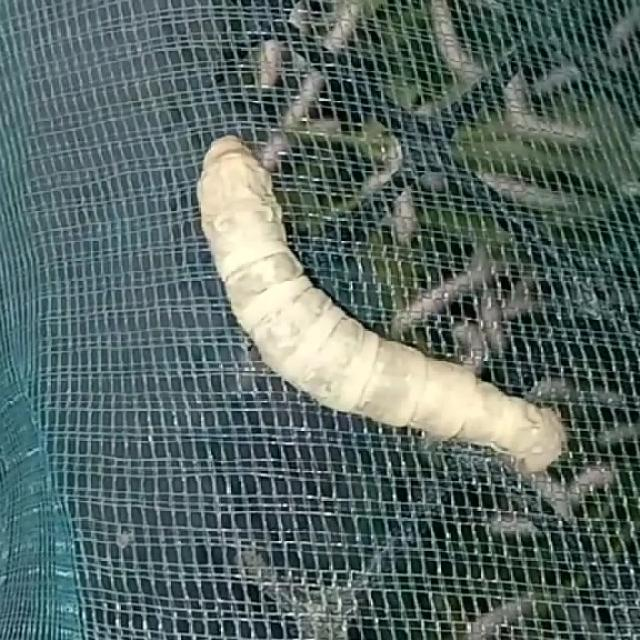Grasserie: (172, 103, 590, 515)
